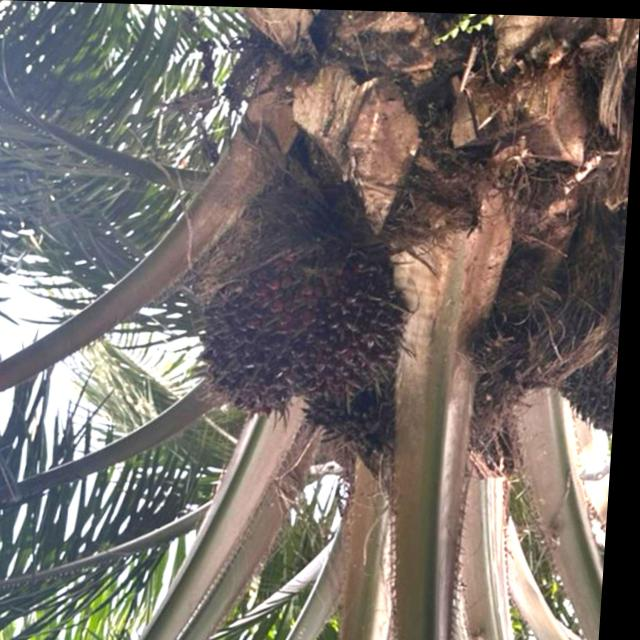ripe: (196, 217, 423, 434)
